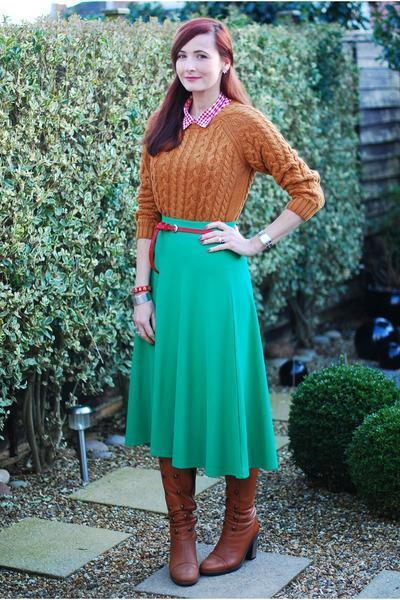jacket: (136, 113, 324, 251)
shirt: (183, 98, 227, 128)
shoe: (159, 457, 272, 586)
skirt: (120, 221, 277, 479)
